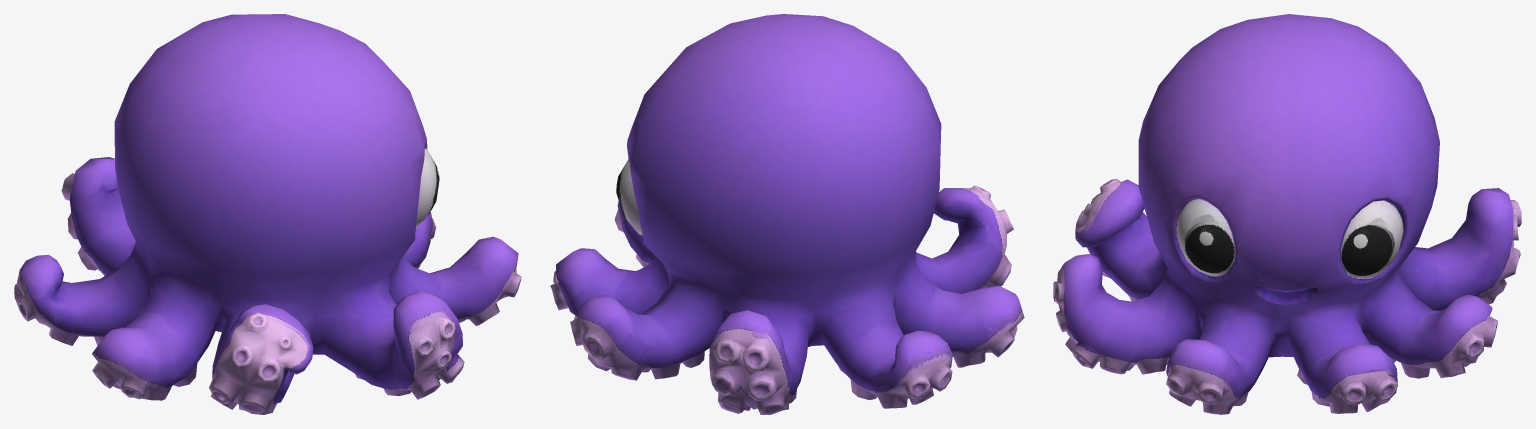
Rendered from octopus_clean.glb.
3 renders of one model, left to right at view 1: azimuth 30°, elevation 25°; view 2: azimuth 150°, elevation 25°; view 3: azimuth 270°, elevation 25°, orthographic.
Visible parts, largest first — view 1: tripo_node_a6bbf39e-4dc3-4a43-859f-ee5f8b522214; view 2: tripo_node_a6bbf39e-4dc3-4a43-859f-ee5f8b522214; view 3: tripo_node_a6bbf39e-4dc3-4a43-859f-ee5f8b522214.
Boxes of the visible parts, x1=… form: tripo_node_a6bbf39e-4dc3-4a43-859f-ee5f8b522214: x1=14, y1=14, x2=521, y2=414; tripo_node_a6bbf39e-4dc3-4a43-859f-ee5f8b522214: x1=550, y1=14, x2=1024, y2=414; tripo_node_a6bbf39e-4dc3-4a43-859f-ee5f8b522214: x1=1053, y1=14, x2=1521, y2=414.
Size of the model in its own units: 1.02 by 0.75 by 1.02.
1 material, 1 textured.
